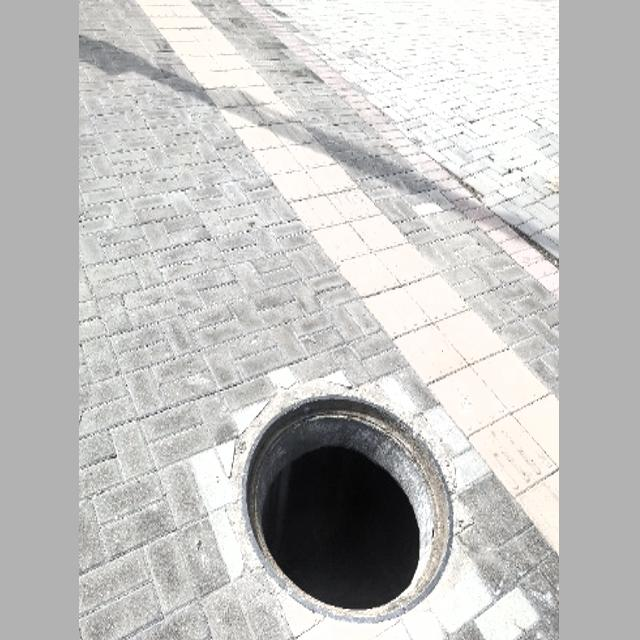lose: (242, 392, 455, 620)
